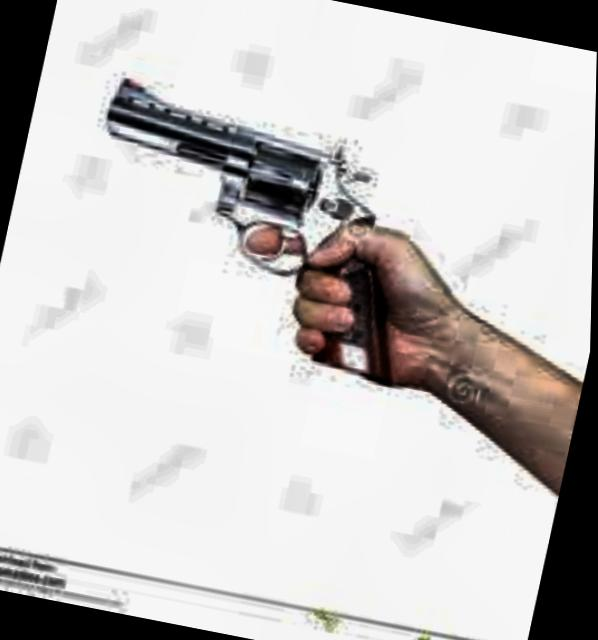pistol: (58, 65, 440, 386)
